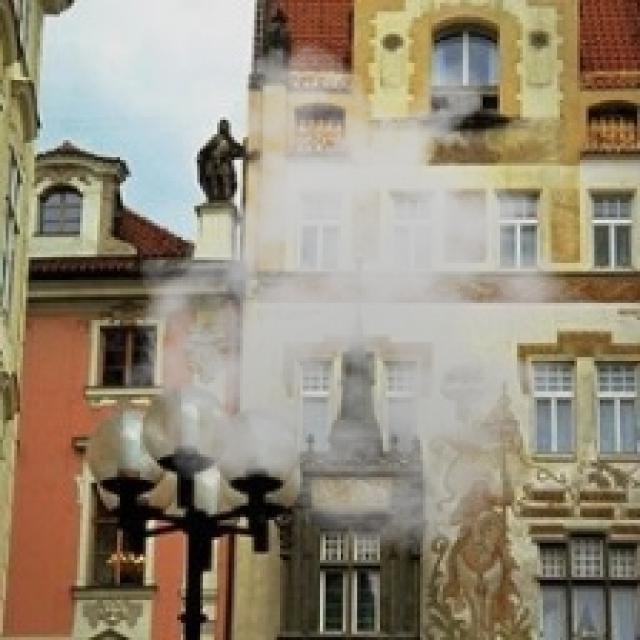smoke: (108, 40, 623, 554)
